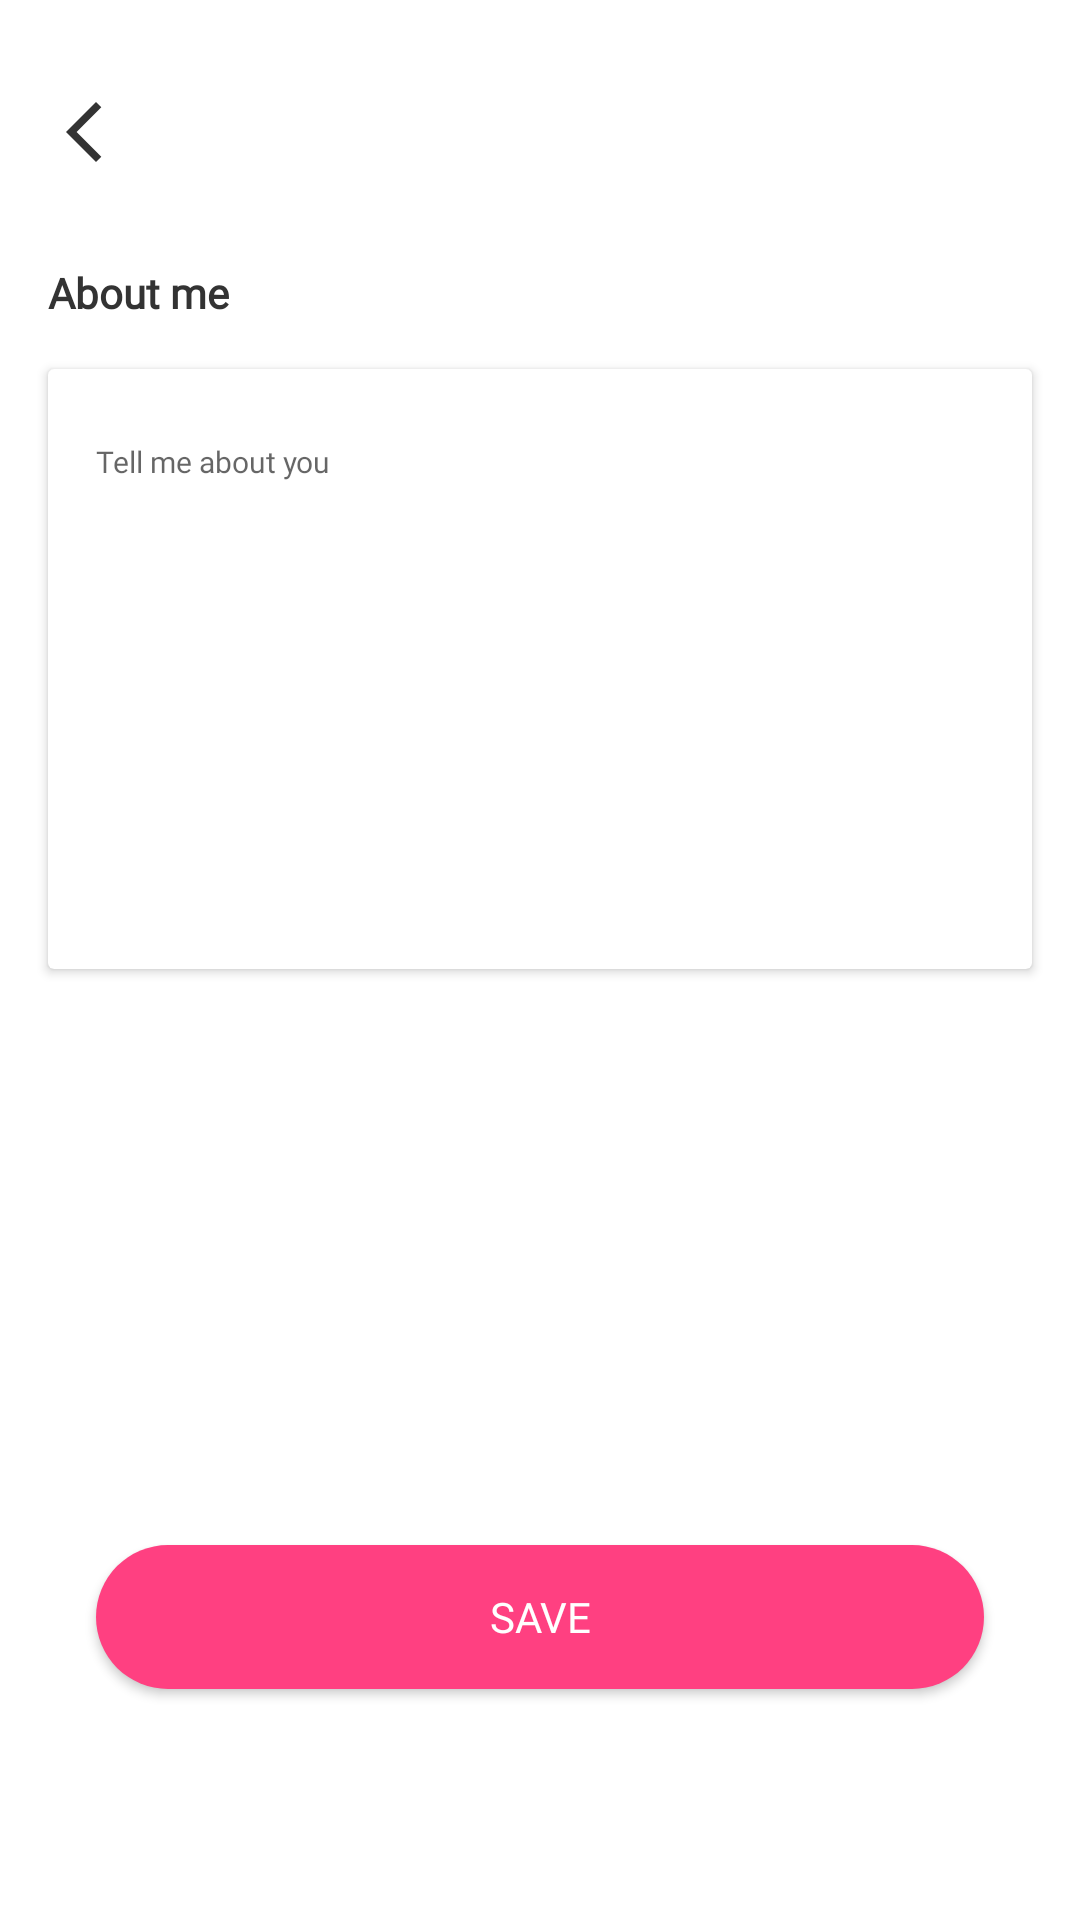

Where to tap for icons on this 1080px×1920px app screen, as (x,y):
arrow back: (83,132)
